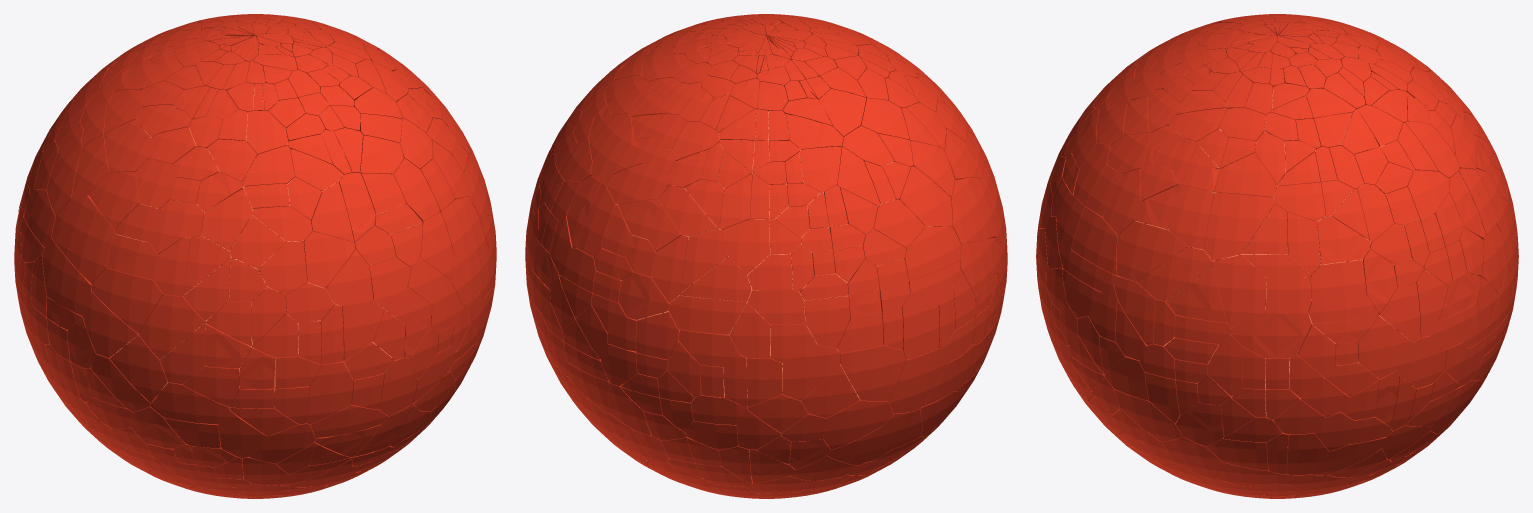
Rendered from hero.draco.glb.
3 views of the same model, side by side, from view 1: azimuth 30°, elevation 25°; view 2: azimuth 150°, elevation 25°; view 3: azimuth 270°, elevation 25° (orthographic).
Parts seen in each view (by area): view 1: hero_shards, hero_core; view 2: hero_shards, hero_core; view 3: hero_shards, hero_core.
Part boxes in pixels (bbox=[...]): hero_shards: bbox=[14, 14, 496, 498]; hero_core: bbox=[116, 87, 420, 407]; hero_shards: bbox=[525, 14, 1007, 498]; hero_core: bbox=[616, 111, 933, 408]; hero_shards: bbox=[1036, 14, 1518, 498]; hero_core: bbox=[1117, 87, 1431, 415].
Bounding box in the file's own units: 1.99 × 2.01 × 1.99.
